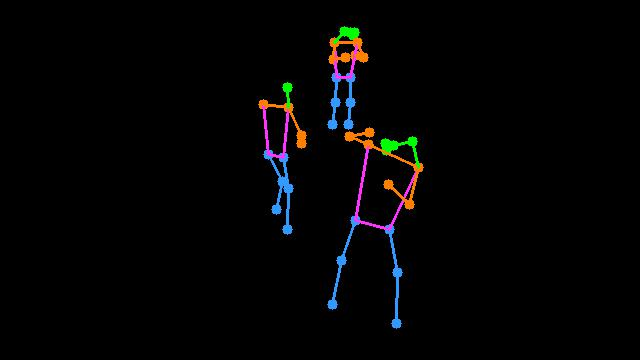normal: (252, 69, 320, 244), (320, 20, 373, 133)
